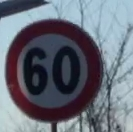limite 60: (5, 12, 110, 120)
